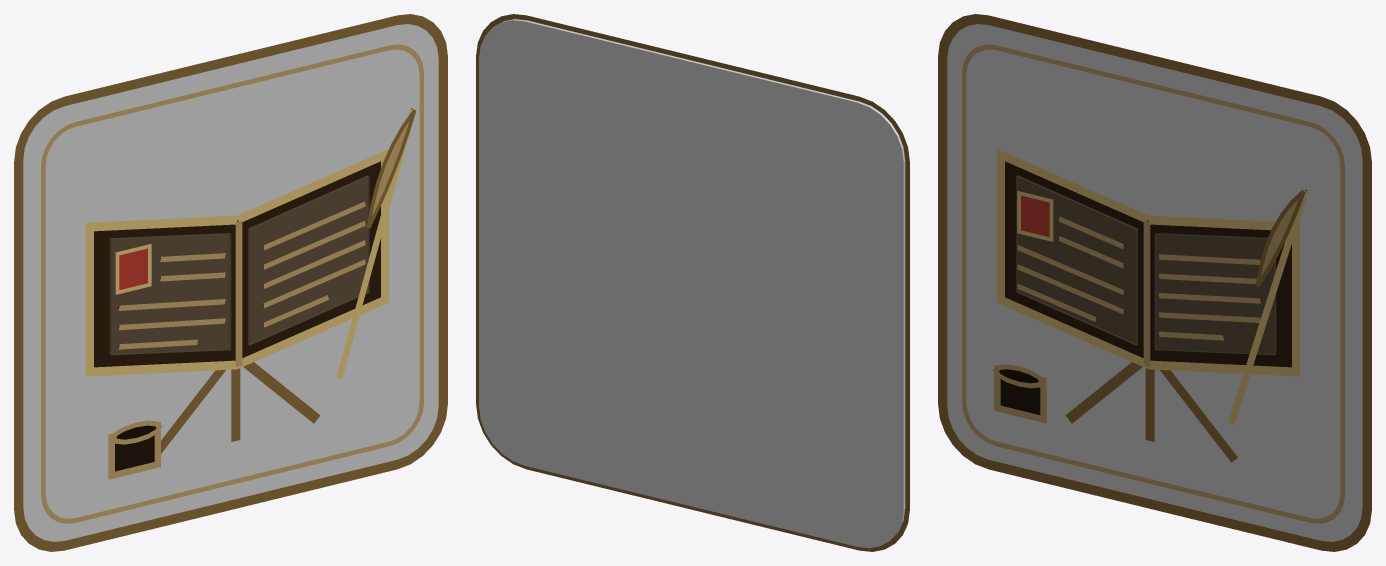
The model's file is obj-letopis.glb.
The picture shows the model from 3 angles, left to right: view 1: azimuth 30°, elevation 25°; view 2: azimuth 150°, elevation 25°; view 3: azimuth 330°, elevation 25°; orthographic projection.
Visible parts, largest first — view 1: obj-letopis; view 2: obj-letopis; view 3: obj-letopis.
Boxes of the visible parts, x1=… form: obj-letopis: x1=14, y1=14, x2=447, y2=551; obj-letopis: x1=476, y1=14, x2=909, y2=551; obj-letopis: x1=938, y1=14, x2=1371, y2=551.
Bounding box in the file's own units: 0.3917 × 0.3917 × 0.0351.
